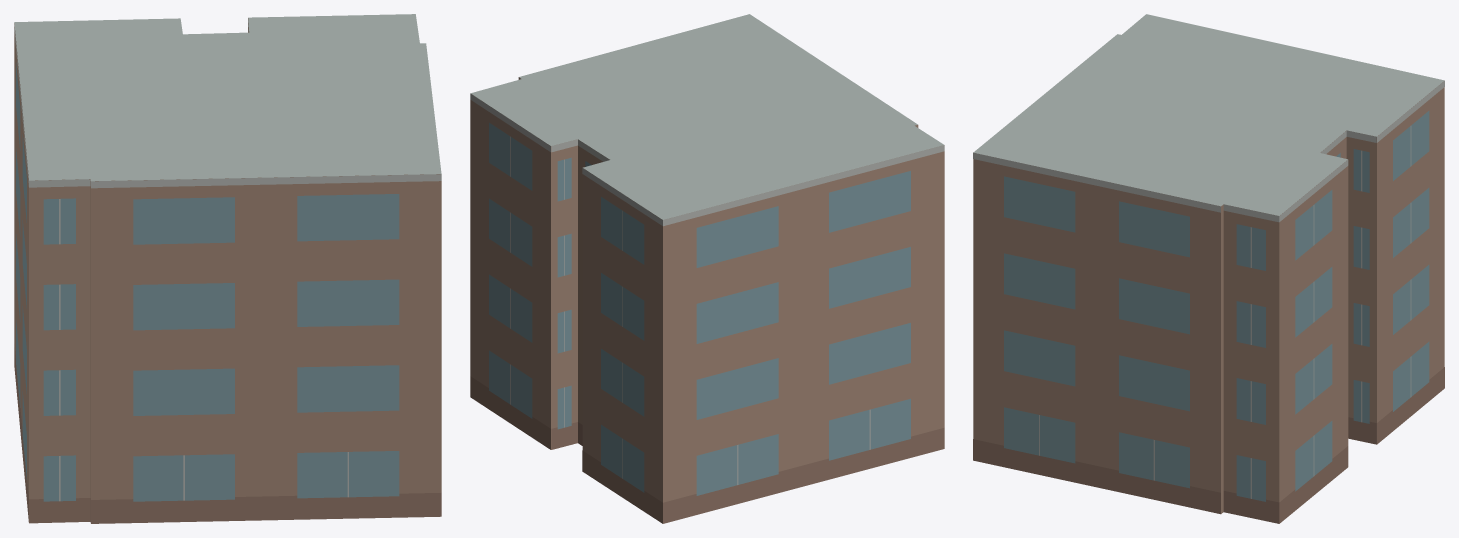
The model's file is survey-upis-32654328.glb.
3 views of the same model, side by side, from view 1: azimuth 30°, elevation 25°; view 2: azimuth 150°, elevation 25°; view 3: azimuth 270°, elevation 25° (orthographic). The views are drawn at different scales.
Parts seen in each view (by area): view 1: survey-upis-32654328.tmp; view 2: survey-upis-32654328.tmp; view 3: survey-upis-32654328.tmp.
Part boxes in pixels (bbox=[...]): survey-upis-32654328.tmp: bbox=[14, 14, 441, 523]; survey-upis-32654328.tmp: bbox=[470, 14, 944, 523]; survey-upis-32654328.tmp: bbox=[973, 14, 1444, 523].
Size of the model in its own units: 16.61 by 11.8 by 16.39.
